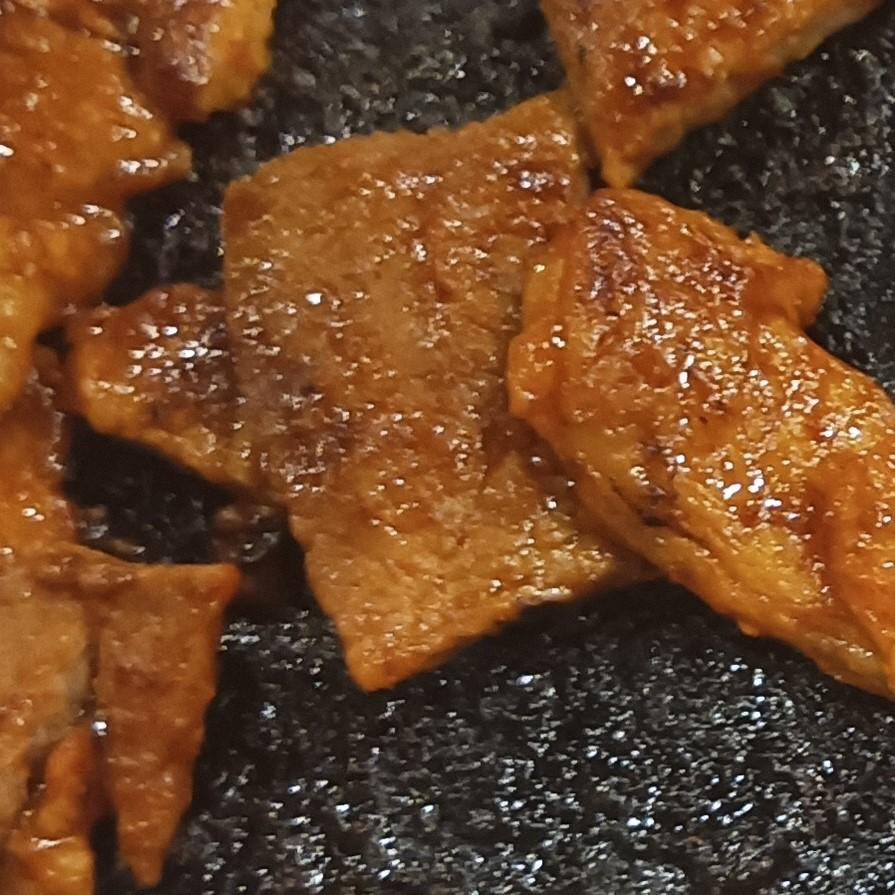Well-Cooked: (70, 91, 659, 693), (0, 0, 271, 894), (506, 189, 894, 702), (547, 0, 888, 190)
